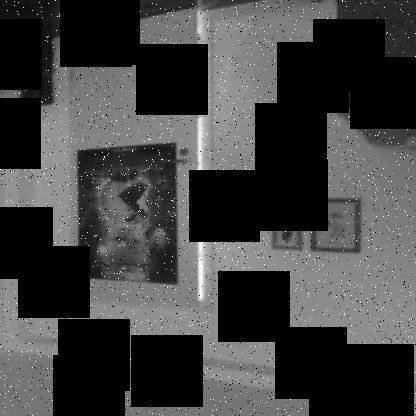Porte: (65, 1, 217, 316)
